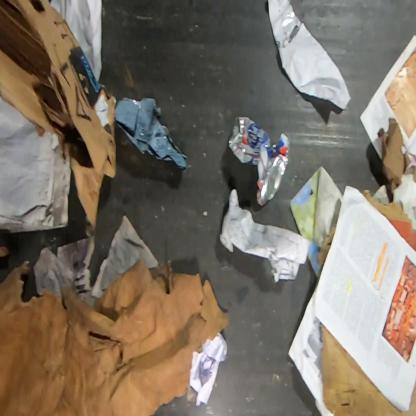cardboard: (0, 0, 117, 232), (318, 320, 415, 415), (361, 189, 415, 255)
metal: (228, 116, 291, 209)
soft_plastic: (113, 96, 188, 171)
